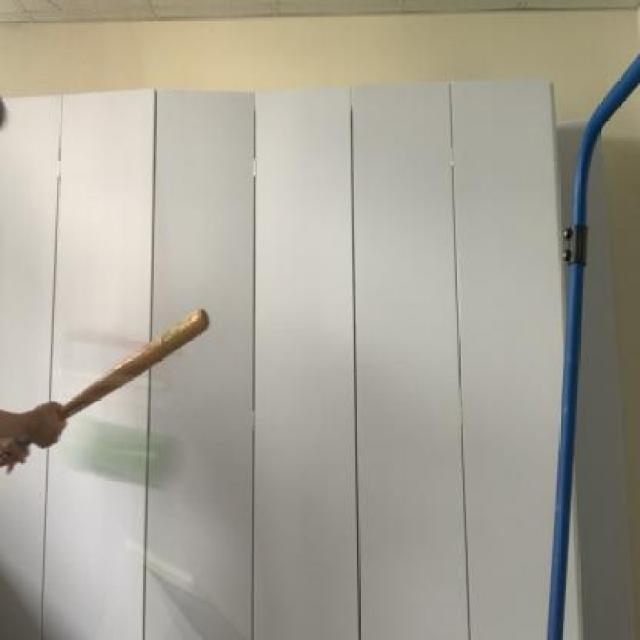baseball: (45, 412, 188, 502)
